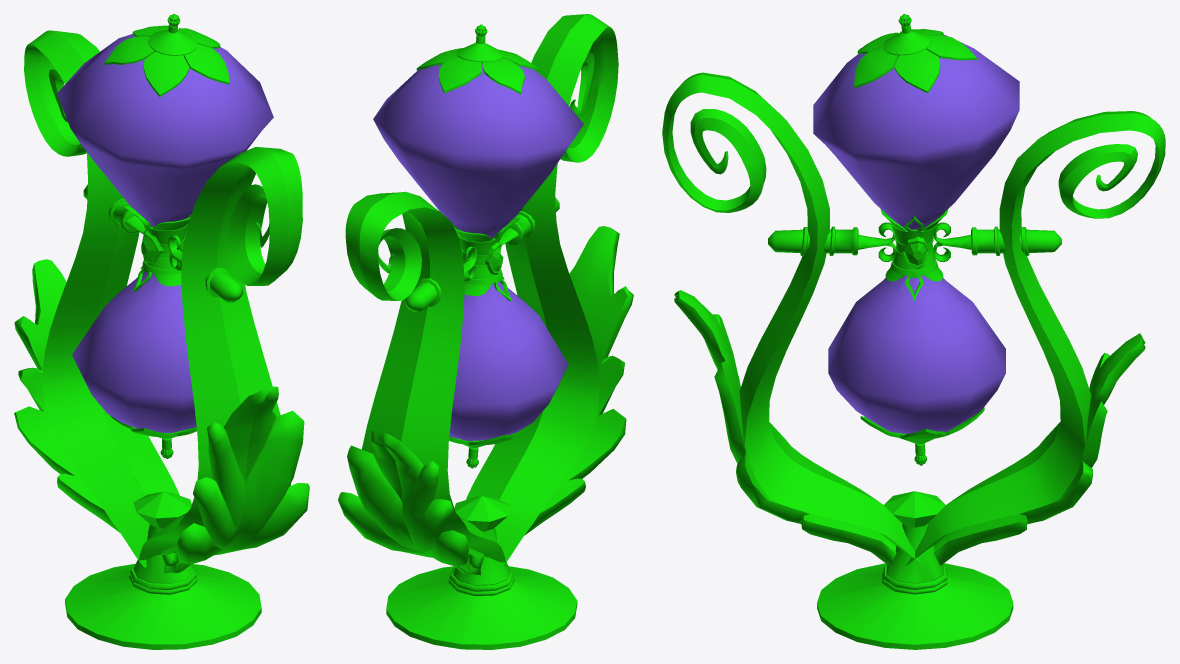
Rendered from MS_HOURGLASS.fbx.
3 views of the same model, side by side, from view 1: azimuth 30°, elevation 25°; view 2: azimuth 150°, elevation 25°; view 3: azimuth 270°, elevation 25° (orthographic). The views are drawn at different scales.
Parts seen in each view (by area): view 1: holder .004, MIDDLE PART .001; view 2: holder .004, MIDDLE PART .001; view 3: holder .004, MIDDLE PART .001.
Part boxes in pixels (left/top/right/bottom): holder .004: left=14, top=30, right=309, bottom=649; MIDDLE PART .001: left=57, top=14, right=273, bottom=458; holder .004: left=338, top=14, right=633, bottom=649; MIDDLE PART .001: left=373, top=24, right=583, bottom=468; holder .004: left=662, top=72, right=1165, bottom=649; MIDDLE PART .001: left=813, top=14, right=1019, bottom=465.
Size of the model in its own units: 90.62 by 273 by 209.
